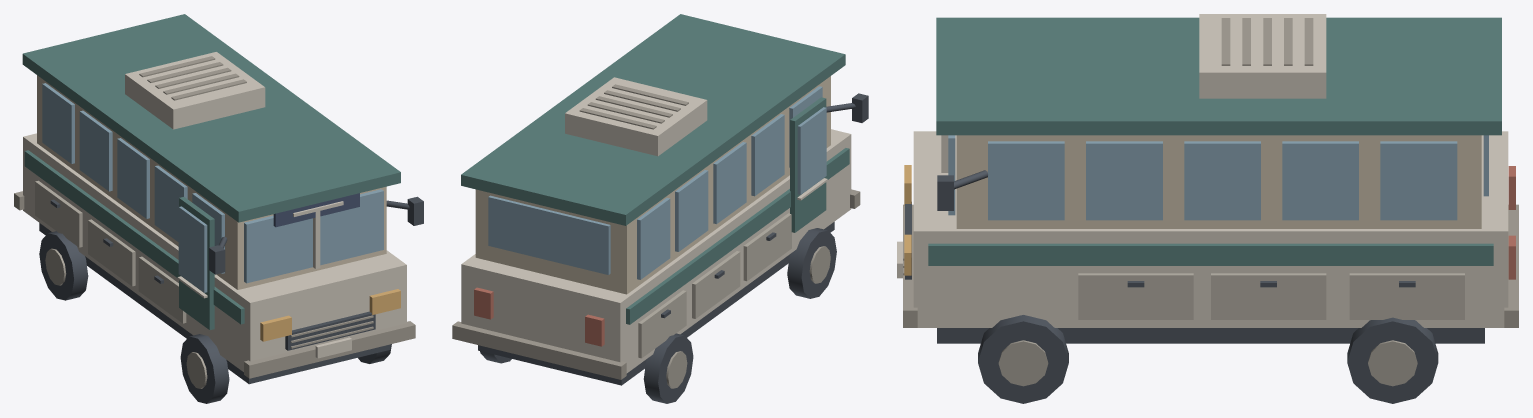
The model's file is komachi-tourist-bus.glb.
The picture shows the model from 3 angles, left to right: view 1: azimuth 30°, elevation 25°; view 2: azimuth 150°, elevation 25°; view 3: azimuth 270°, elevation 25°; orthographic projection. The views are drawn at different scales.
Visible parts, largest first — view 1: Bus_Body_And_Glazing, Passenger_Door, Wheel_Left_Front, Wheel_Left_Rear; view 2: Bus_Body_And_Glazing, Passenger_Door, Wheel_Left_Front, Wheel_Left_Rear; view 3: Bus_Body_And_Glazing, Wheel_Right_Front, Wheel_Right_Rear.
Boxes of the visible parts, bbox=[...] form: Bus_Body_And_Glazing: bbox=[14, 14, 423, 384]; Passenger_Door: bbox=[177, 197, 214, 329]; Wheel_Left_Front: bbox=[180, 334, 229, 403]; Wheel_Left_Rear: bbox=[39, 231, 88, 300]; Bus_Body_And_Glazing: bbox=[452, 14, 868, 385]; Passenger_Door: bbox=[790, 97, 827, 232]; Wheel_Left_Front: bbox=[787, 228, 836, 298]; Wheel_Left_Rear: bbox=[643, 333, 693, 403]; Bus_Body_And_Glazing: bbox=[897, 14, 1518, 343]; Wheel_Right_Front: bbox=[978, 315, 1068, 403]; Wheel_Right_Rear: bbox=[1347, 317, 1438, 403].
Bounding box in the file's own units: 0.546 × 0.5855 × 1.08.
